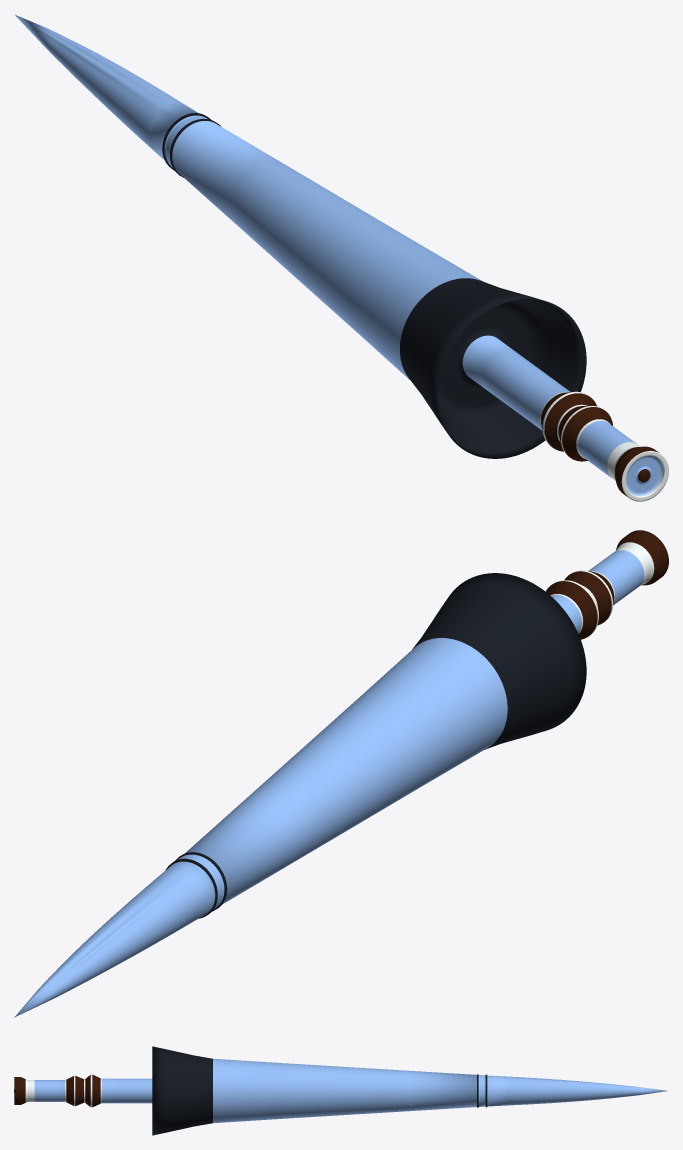
The model's file is justa.fbx.
The picture shows the model from 3 angles, top to bottom: view 1: azimuth 30°, elevation 25°; view 2: azimuth 150°, elevation 25°; view 3: azimuth 270°, elevation 25°; orthographic projection. The views are drawn at different scales.
Visible parts, largest first — view 1: LanzaJusta; view 2: LanzaJusta; view 3: LanzaJusta.
Part boxes in pixels (left/top/right/bottom): LanzaJusta: left=14, top=14, right=668, bottom=501; LanzaJusta: left=14, top=530, right=668, bottom=1017; LanzaJusta: left=14, top=1046, right=667, bottom=1135.
Bounding box in the file's own units: 106 × 106 × 775.
